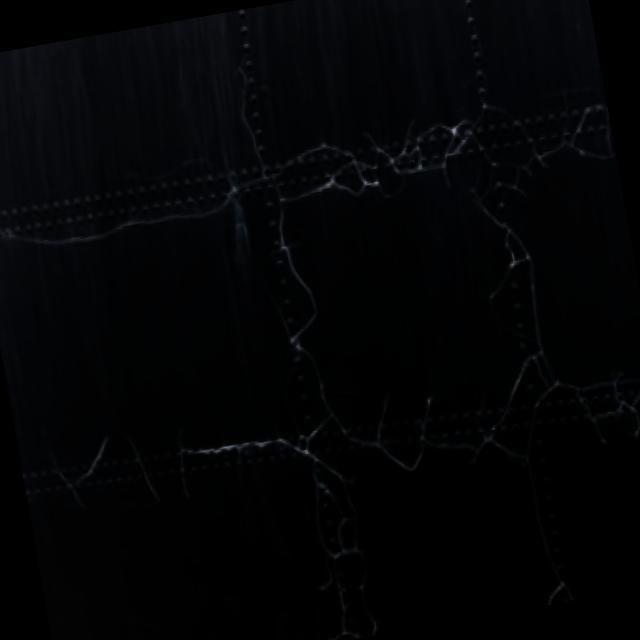crack: (33, 320, 640, 550), (0, 68, 617, 275), (219, 50, 386, 640), (461, 174, 602, 604)
